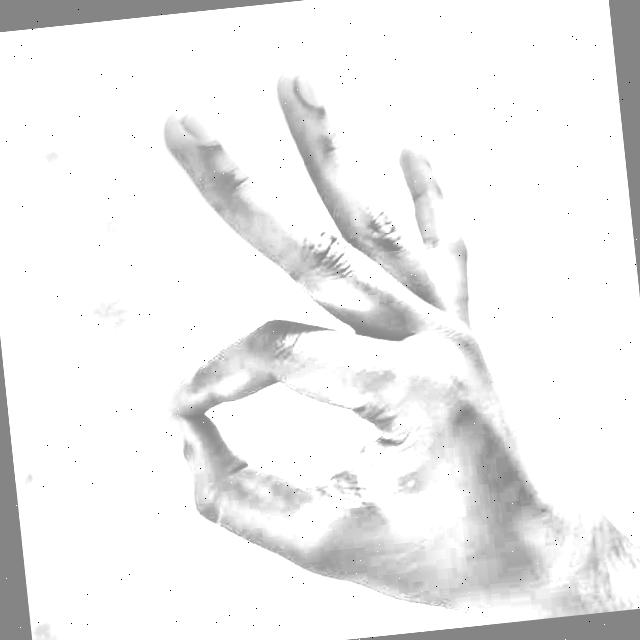Ca: (88, 6, 611, 640)
